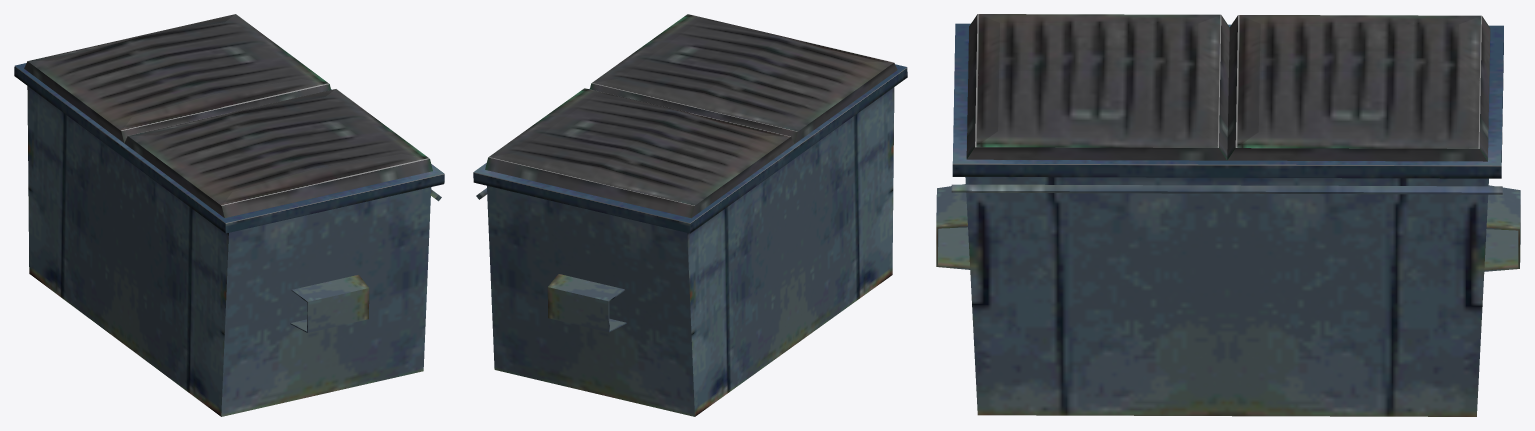
Rendered from Urban_DumpsterLidClosedBlue_Model.fbx.
The picture shows the model from 3 angles, left to right: view 1: azimuth 30°, elevation 25°; view 2: azimuth 150°, elevation 25°; view 3: azimuth 270°, elevation 25°; orthographic projection. The views are drawn at different scales.
Visible parts, largest first — view 1: Urban_DumpsterLidClosedBlue_Mesh; view 2: Urban_DumpsterLidClosedBlue_Mesh; view 3: Urban_DumpsterLidClosedBlue_Mesh.
Part boxes in pixels (<box>): Urban_DumpsterLidClosedBlue_Mesh: <box>14,14,444,416</box>; Urban_DumpsterLidClosedBlue_Mesh: <box>473,14,907,416</box>; Urban_DumpsterLidClosedBlue_Mesh: <box>936,14,1520,416</box>.
Size of the model in its own units: 2.06 by 1.96 by 3.68.
